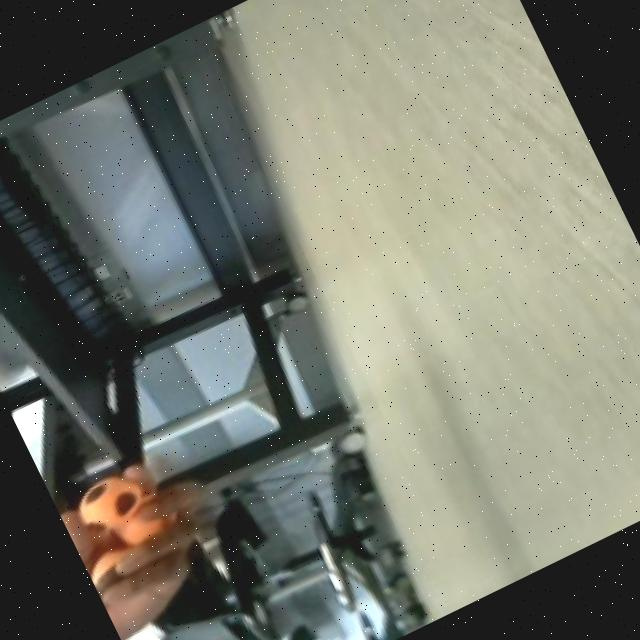ping-pong-ball: (62, 461, 154, 546)
